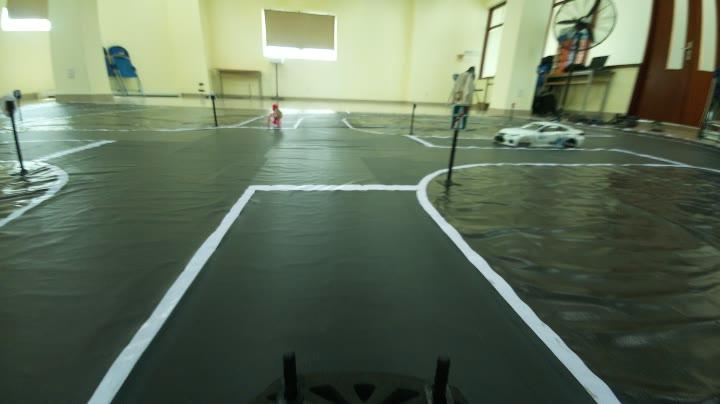highway_exit: (445, 102, 474, 133)
